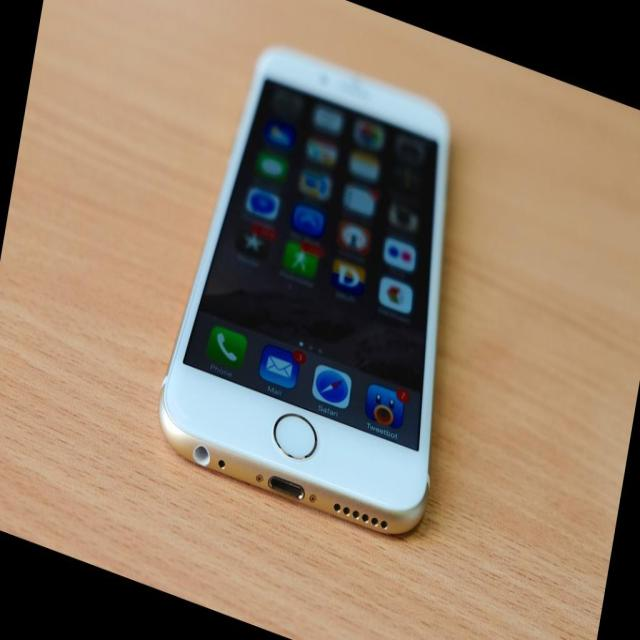handphone: (165, 52, 452, 529)
